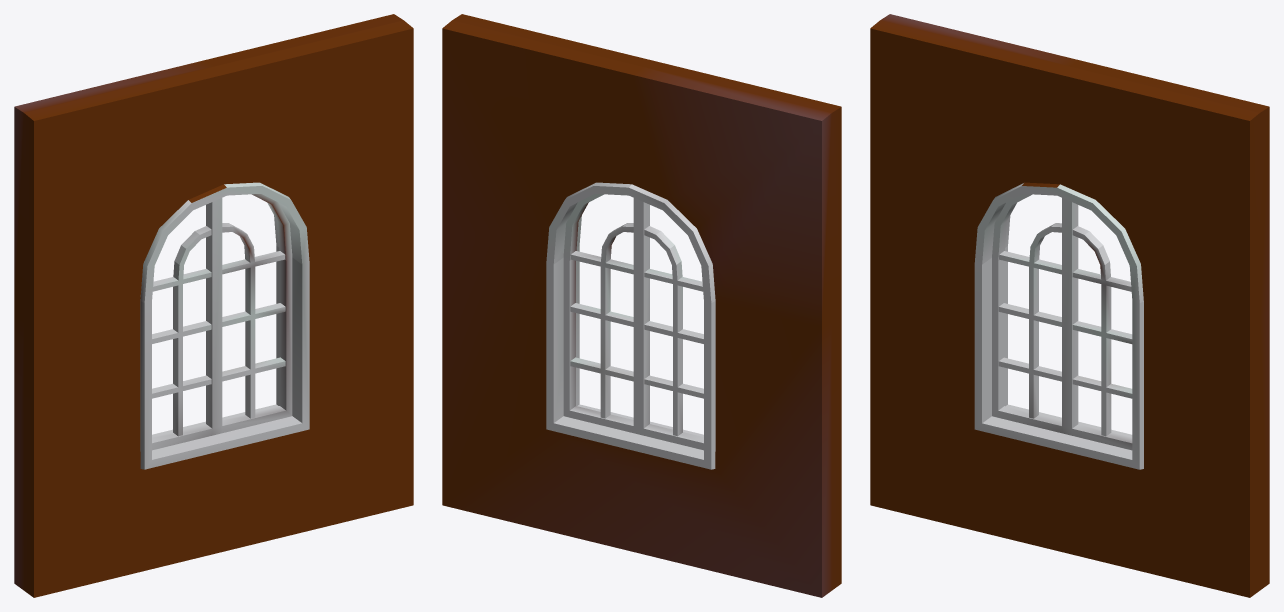
Rendered from WindowWall.fbx.
3 views of the same model, side by side, from view 1: azimuth 30°, elevation 25°; view 2: azimuth 150°, elevation 25°; view 3: azimuth 330°, elevation 25° (orthographic).
Visible parts, largest first — view 1: SM_Bld_Wall_Window_05; view 2: SM_Bld_Wall_Window_05; view 3: SM_Bld_Wall_Window_05.
Part boxes in pixels (x1,y1,x2,y2): SM_Bld_Wall_Window_05: (14, 14, 413, 597); SM_Bld_Wall_Window_05: (442, 14, 841, 597); SM_Bld_Wall_Window_05: (870, 14, 1269, 597).
Bounding box in the file's own units: 250 × 301 × 29.5.
